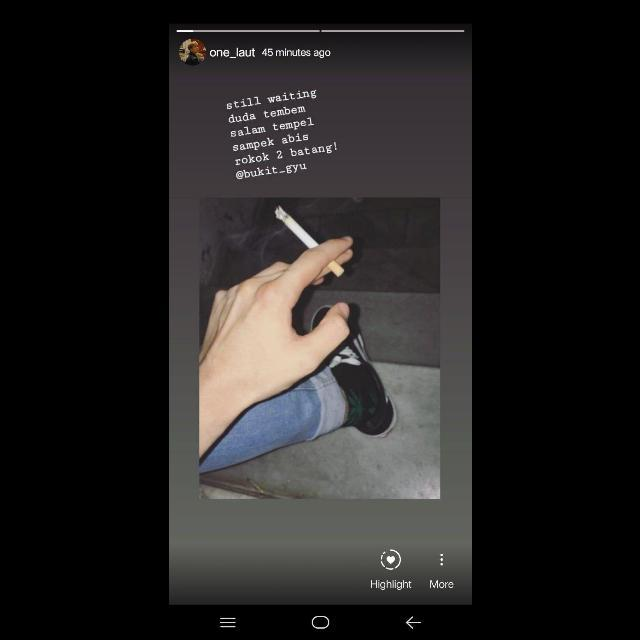rokok: (270, 201, 346, 279)
